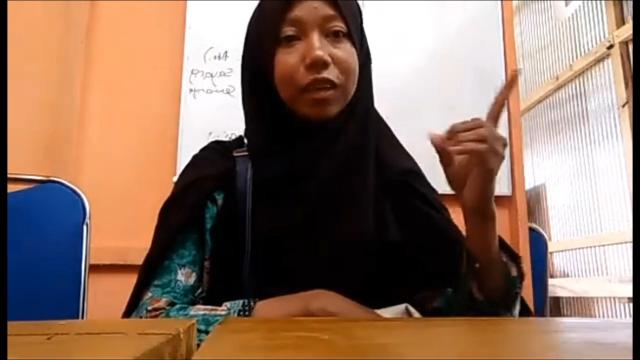D: (428, 62, 518, 207)
